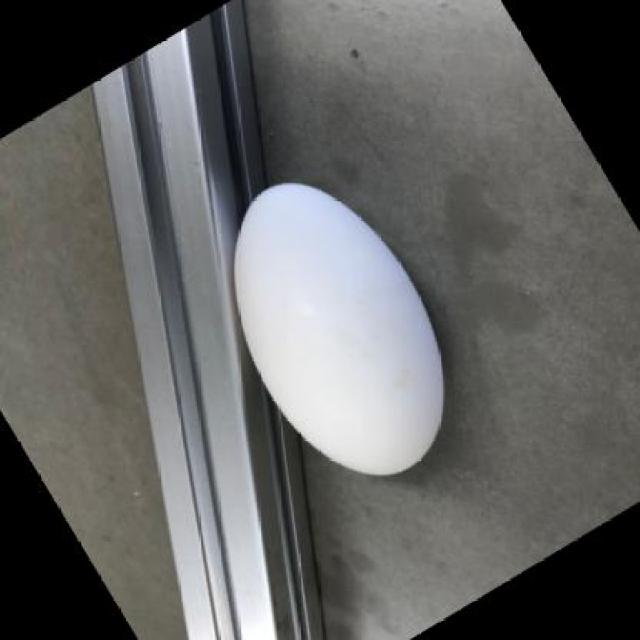egg: (230, 174, 451, 488)
